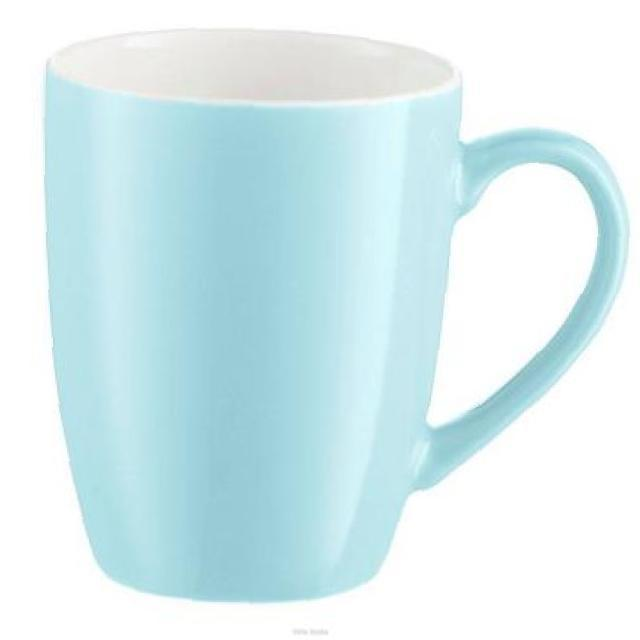cup: (0, 43, 22, 640)
